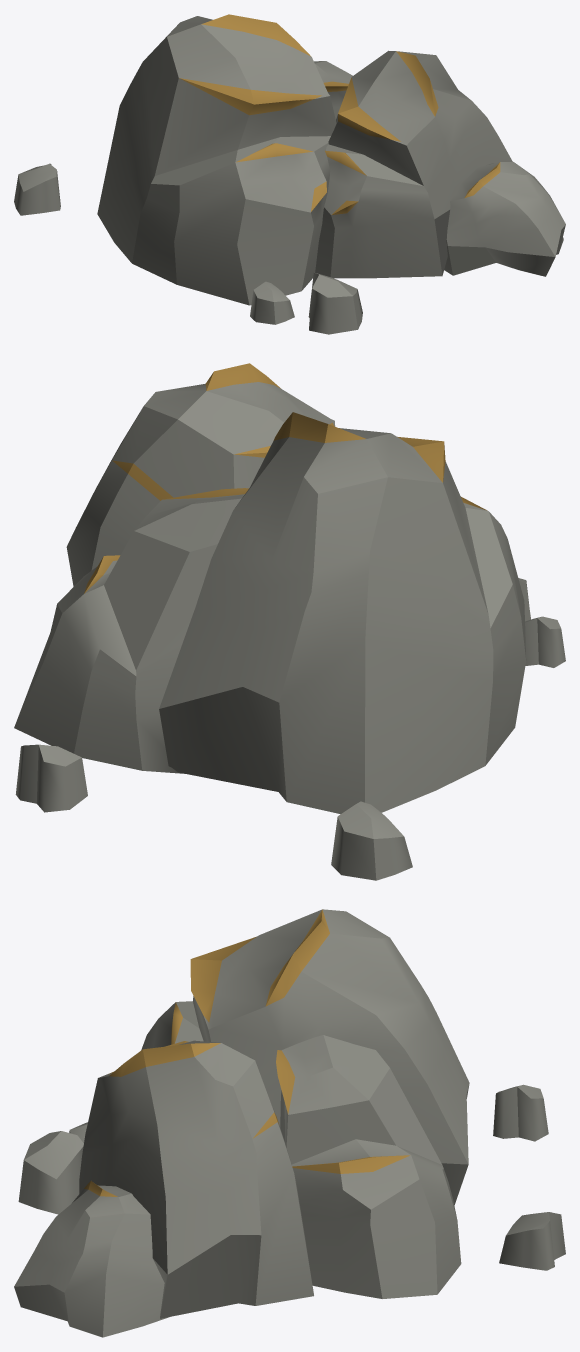
Rendered from Resource_Gold_1.glb.
3 renders of one model, top to bottom at view 1: azimuth 30°, elevation 25°; view 2: azimuth 150°, elevation 25°; view 3: azimuth 270°, elevation 25°, orthographic. The views are drawn at different scales.
Parts seen in each view (by area): view 1: Resource_Gold_1; view 2: Resource_Gold_1; view 3: Resource_Gold_1.
Boxes of the visible parts, left/top/right/bottom form: Resource_Gold_1: left=14, top=14, right=565, bottom=334; Resource_Gold_1: left=14, top=363, right=565, bottom=880; Resource_Gold_1: left=14, top=909, right=565, bottom=1337.
Bounding box in the file's own units: 0.7402 × 0.4217 × 0.7609.
